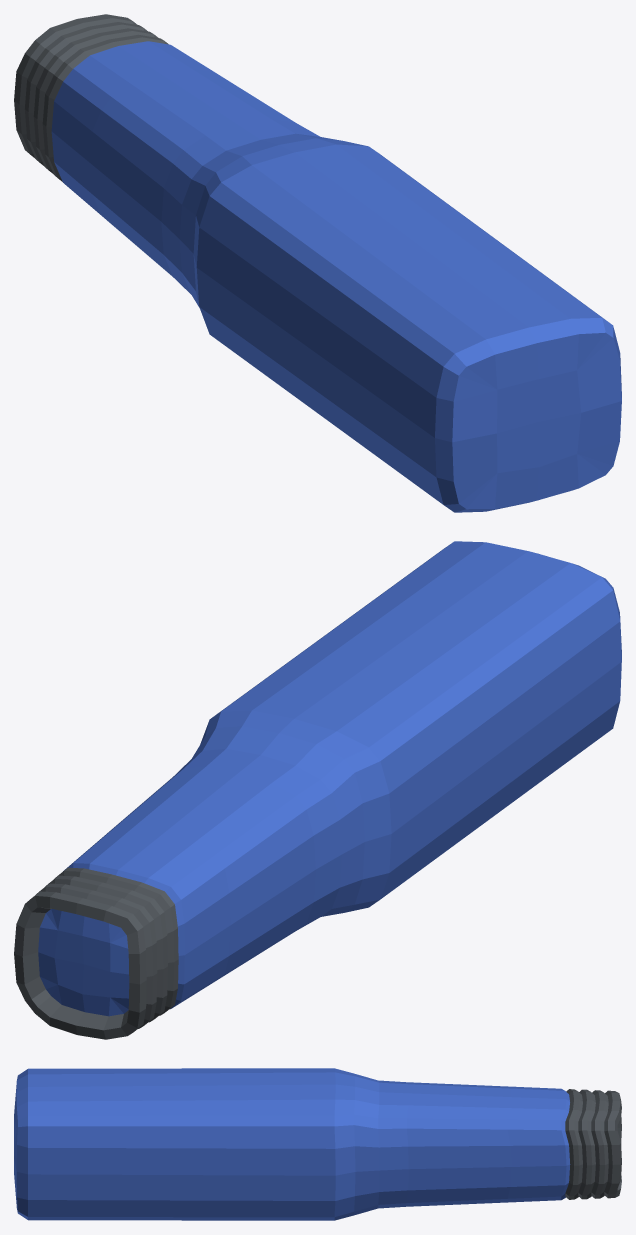
Rendered from Mothership_02_Central_Body_Blue.fbx.
3 renders of one model, top to bottom at view 1: azimuth 30°, elevation 25°; view 2: azimuth 150°, elevation 25°; view 3: azimuth 270°, elevation 25°, orthographic. The views are drawn at different scales.
Parts seen in each view (by area): view 1: Mothership_02_Central_Body_Blue; view 2: Mothership_02_Central_Body_Blue; view 3: Mothership_02_Central_Body_Blue.
Boxes of the visible parts, x1=… form: Mothership_02_Central_Body_Blue: x1=14, y1=14, x2=621, y2=512; Mothership_02_Central_Body_Blue: x1=14, y1=541, x2=621, y2=1039; Mothership_02_Central_Body_Blue: x1=14, y1=1068, x2=621, y2=1220.
Size of the model in its own units: 984 by 881 by 4050.
Materials: 1 (1 with a texture image).
